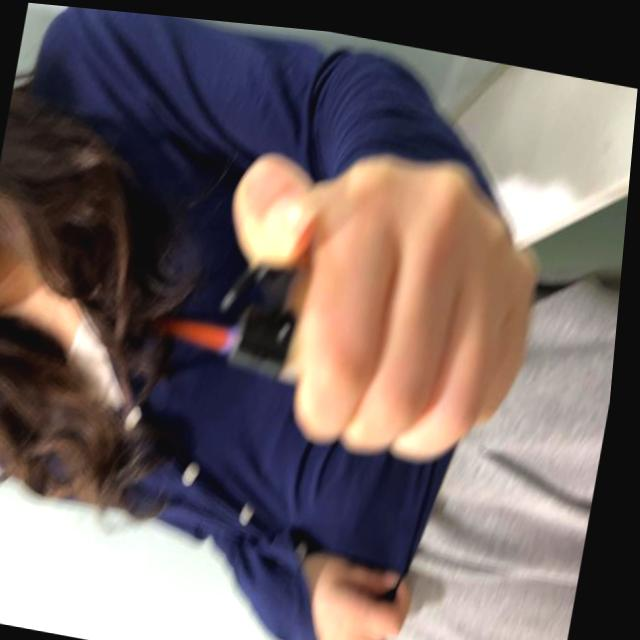helmet: (155, 308, 247, 356)
